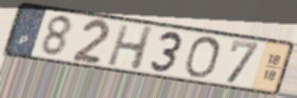2: (71, 17, 114, 67)
3: (148, 30, 185, 74)
7: (226, 38, 262, 85)
8: (40, 14, 74, 58)
H: (105, 23, 156, 72)
O: (182, 35, 223, 80)
